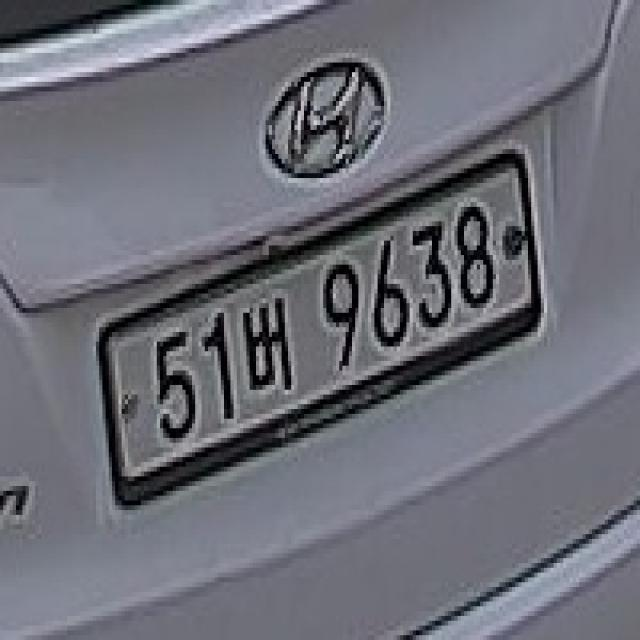1: (202, 306, 240, 434)
3: (412, 214, 454, 337)
5: (155, 324, 196, 454)
6: (367, 234, 411, 352)
8: (454, 197, 499, 312)
9: (316, 252, 364, 381)
beo: (240, 291, 298, 403)
license_plate: (78, 112, 564, 551)
